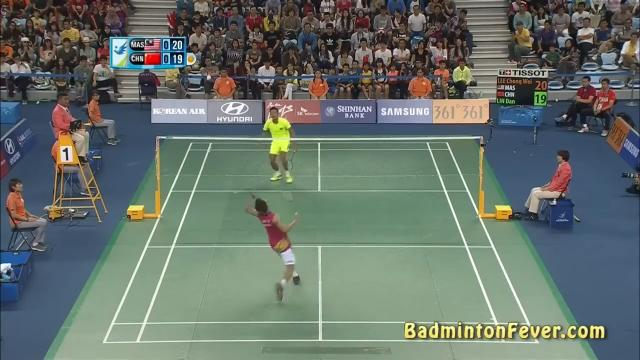Shuttlecock: (204, 73, 213, 81)
